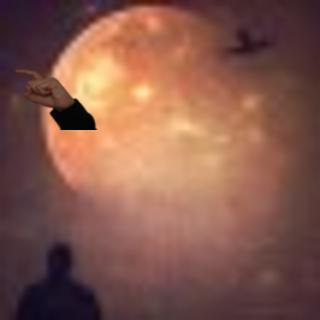WHY: (11, 64, 72, 108)
